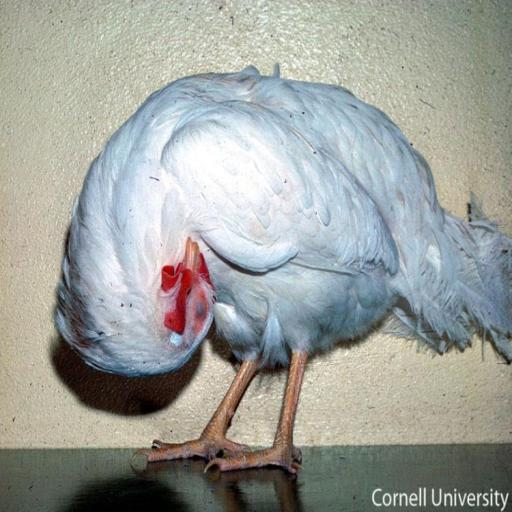disease: (183, 265, 216, 349)
